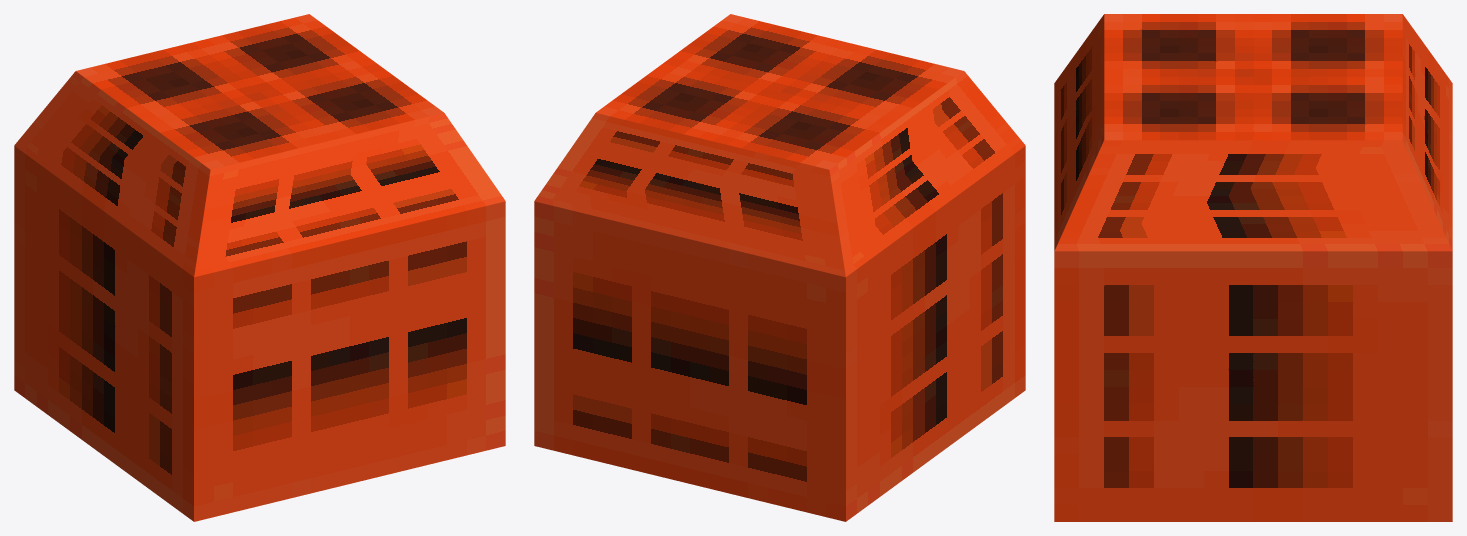
File: core.obj
3 renders of one model, left to right at view 1: azimuth 30°, elevation 25°; view 2: azimuth 150°, elevation 25°; view 3: azimuth 270°, elevation 25°, orthographic. The views are drawn at different scales.
Parts seen in each view (by area): view 1: Cube_Cube.002; view 2: Cube_Cube.002; view 3: Cube_Cube.002.
Part boxes in pixels (x1,y1,x2,y2): Cube_Cube.002: (14,14,505,521); Cube_Cube.002: (534,14,1025,521); Cube_Cube.002: (1054,14,1452,521).
Size of the model in its own units: 1 by 1 by 1.
